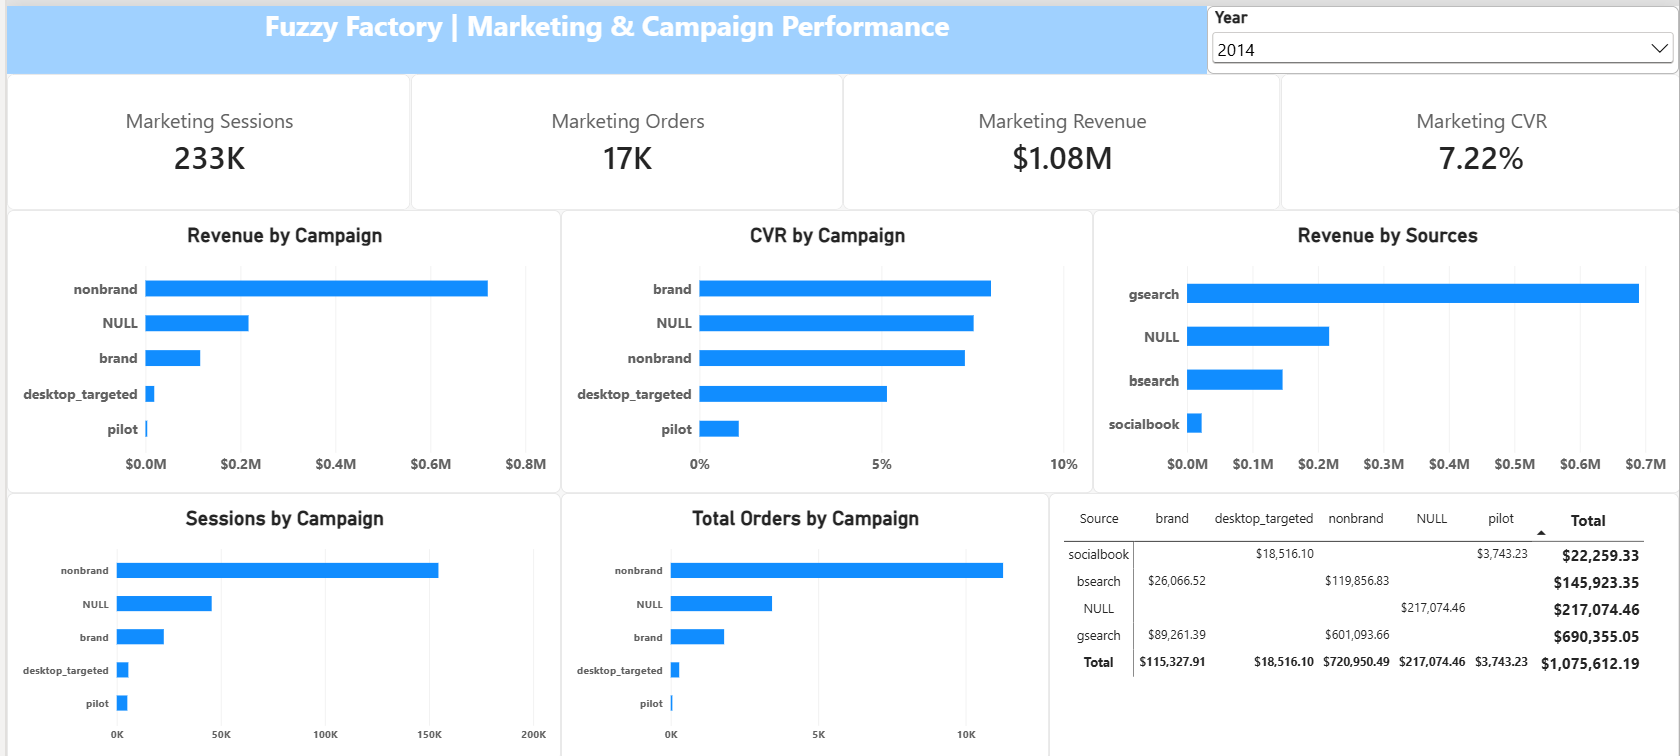

The dashboard page shown, as its layout file describes it:
{"tool":"powerbi","page":{"name":"Marketing & Campaign ","canvas":[1920,1080],"ordinal":1},"visuals":[{"type":"cardVisual","fields":{"Data":["Fact_Marketing.Marketing CVR"]},"box":[1463,78.1,459.3,156.2],"z":0},{"type":"cardVisual","fields":{"Data":["Fact_Marketing.Marketing Orders"]},"box":[463.9,78.1,496.1,156.2],"z":1000},{"type":"cardVisual","fields":{"Data":["Fact_Marketing.Marketing Revenue"]},"box":[960,78.1,503,156.2],"z":2000},{"type":"cardVisual","fields":{"Data":["Fact_Marketing.Marketing Sessions"]},"box":[0,78.1,463.9,156.2],"z":3000},{"type":"textbox","box":[0,0,1378,78.1],"z":4000},{"type":"slicer","fields":{"Values":["Dim_Date.Year"]},"box":[1378,0,542,78.1],"z":5000},{"type":"clusteredBarChart","title":"Revenue by Campaign","fields":{"Category":["Fact_Marketing.Campaign"],"Y":["Fact_Marketing.Marketing Revenue"]},"box":[0,234.3,636.2,323.8],"z":6000},{"type":"clusteredBarChart","title":"CVR by Campaign","fields":{"Category":["Fact_Marketing.Campaign"],"Y":["Fact_Marketing.Marketing CVR"]},"box":[636.2,234.3,610.9,323.8],"z":7000},{"type":"clusteredBarChart","title":"Sessions by Campaign","fields":{"Category":["Fact_Marketing.Campaign"],"Y":["Fact_Marketing.Marketing Sessions"]},"box":[0,558.1,636.2,307.8],"z":8000},{"type":"clusteredBarChart","title":"Total Orders by Campaign","fields":{"Category":["Fact_Marketing.Campaign"],"Y":["Fact_Marketing.Marketing Orders"]},"box":[636.2,558.1,560.4,307.8],"z":9000},{"type":"clusteredBarChart","title":"Revenue by Sources","fields":{"Category":["Fact_Marketing.Source"],"Y":["Fact_Marketing.Marketing Revenue"]},"box":[1247.1,234.3,675.2,323.8],"z":10000},{"type":"pivotTable","fields":{"Columns":["Fact_Marketing.Campaign"],"Rows":["Fact_Marketing.Source"],"Values":["Fact_Marketing.Marketing Revenue"]},"box":[1196.6,558.1,723.4,307.8],"z":11000}]}

Visuals, with their boxes on the page's 1920x1080 design canvas (x1, y1, x2, y2). These are canvas units, not pixel positions in the 1680x756 screenshot, which may show the page scaled, cropped or inside an application window:
cardVisual - Fact_Marketing.Marketing CVR: [left=1463, top=78, right=1922, bottom=234]
cardVisual - Fact_Marketing.Marketing Orders: [left=464, top=78, right=960, bottom=234]
cardVisual - Fact_Marketing.Marketing Revenue: [left=960, top=78, right=1463, bottom=234]
cardVisual - Fact_Marketing.Marketing Sessions: [left=0, top=78, right=464, bottom=234]
textbox: [left=0, top=0, right=1378, bottom=78]
slicer - Dim_Date.Year: [left=1378, top=0, right=1920, bottom=78]
"Revenue by Campaign" clusteredBarChart: [left=0, top=234, right=636, bottom=558]
"CVR by Campaign" clusteredBarChart: [left=636, top=234, right=1247, bottom=558]
"Sessions by Campaign" clusteredBarChart: [left=0, top=558, right=636, bottom=866]
"Total Orders by Campaign" clusteredBarChart: [left=636, top=558, right=1197, bottom=866]
"Revenue by Sources" clusteredBarChart: [left=1247, top=234, right=1922, bottom=558]
pivotTable - Fact_Marketing.Campaign x Fact_Marketing.Source: [left=1197, top=558, right=1920, bottom=866]
